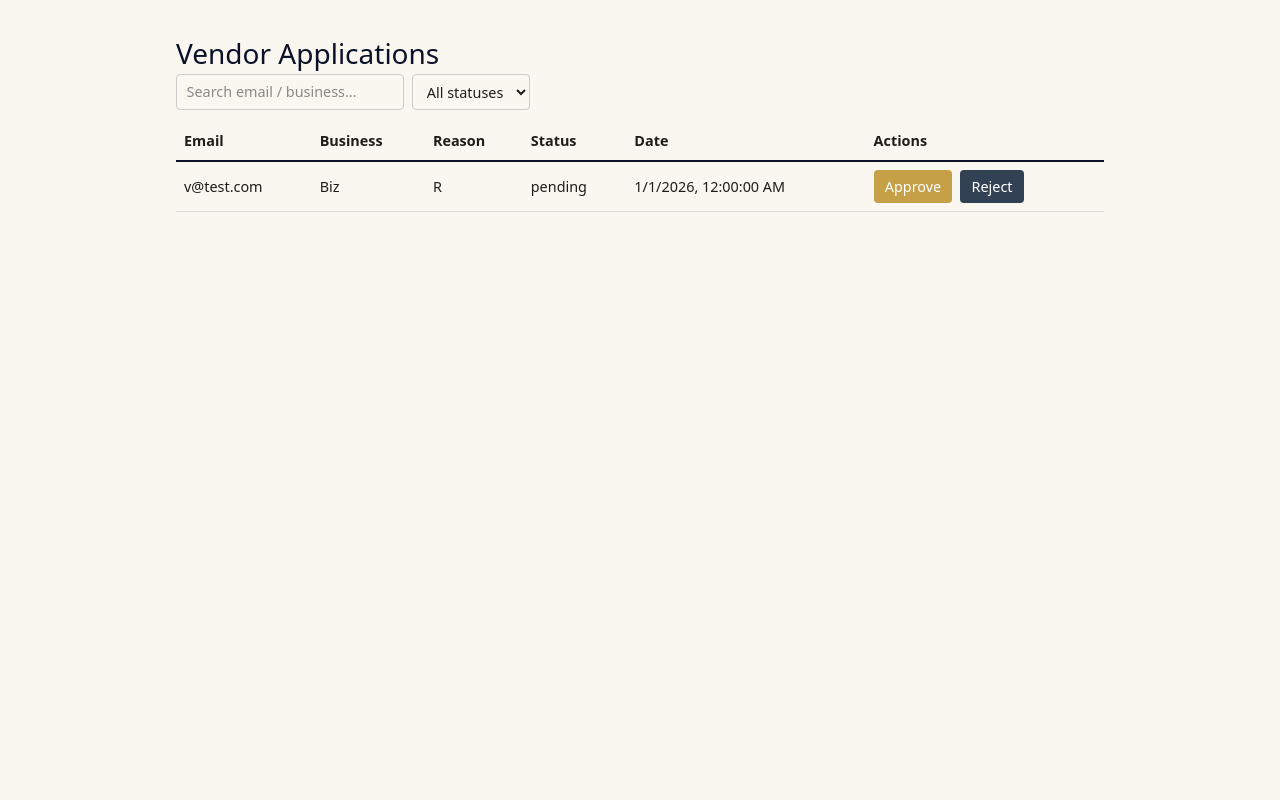
Test: Admin vendor-applications › shows separate approve/reject context in modal labels
The width and height of the screenshot is (1280, 800).
expect the text "v@test.com" is shown: met, box left=176, top=161, right=312, bottom=211
What coordinates should you click on to do the following:
click the button "Approve"
I would click on:
 (913, 186)
Its box is left=874, top=170, right=952, bottom=203.
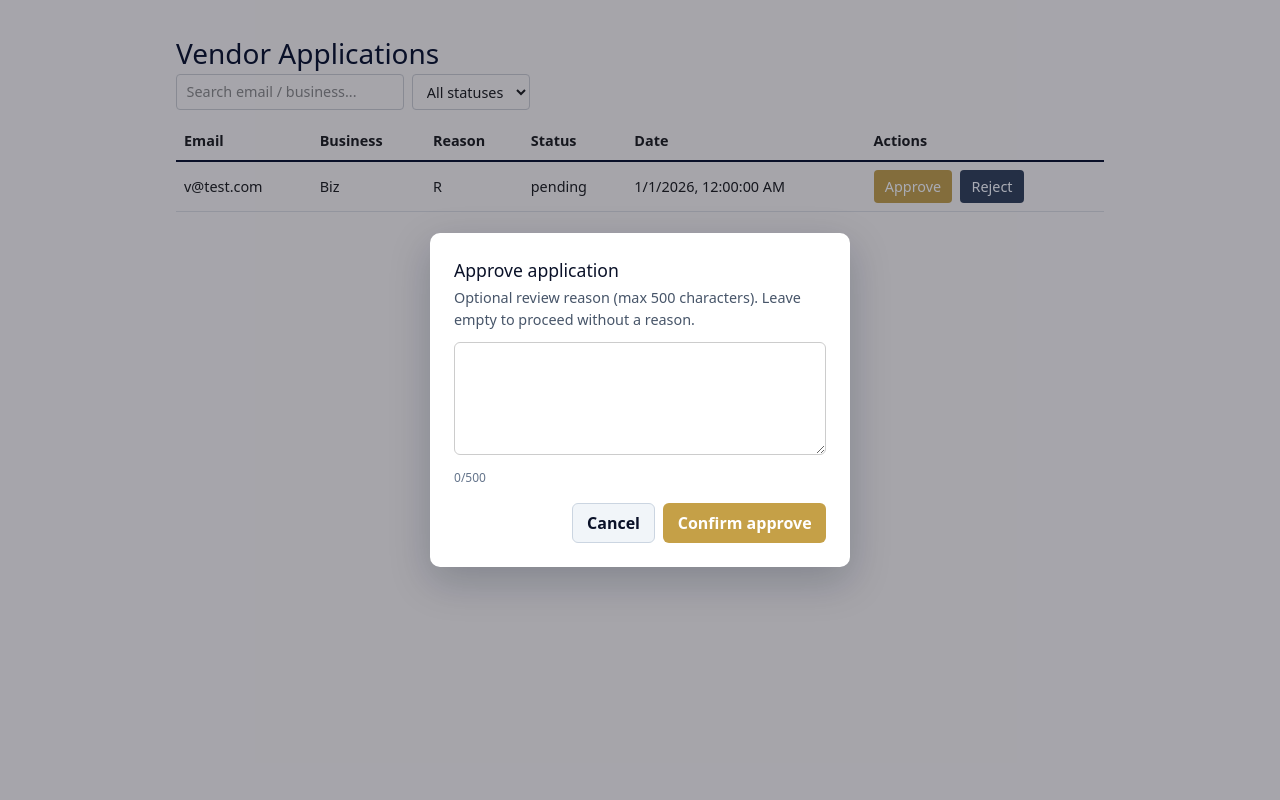
expect the dialog "Approve application" is shown: met
What coordinates should you click on to do the following:
click the button "Cancel"
I would click on:
 (614, 523)
Its box is left=572, top=503, right=655, bottom=543.
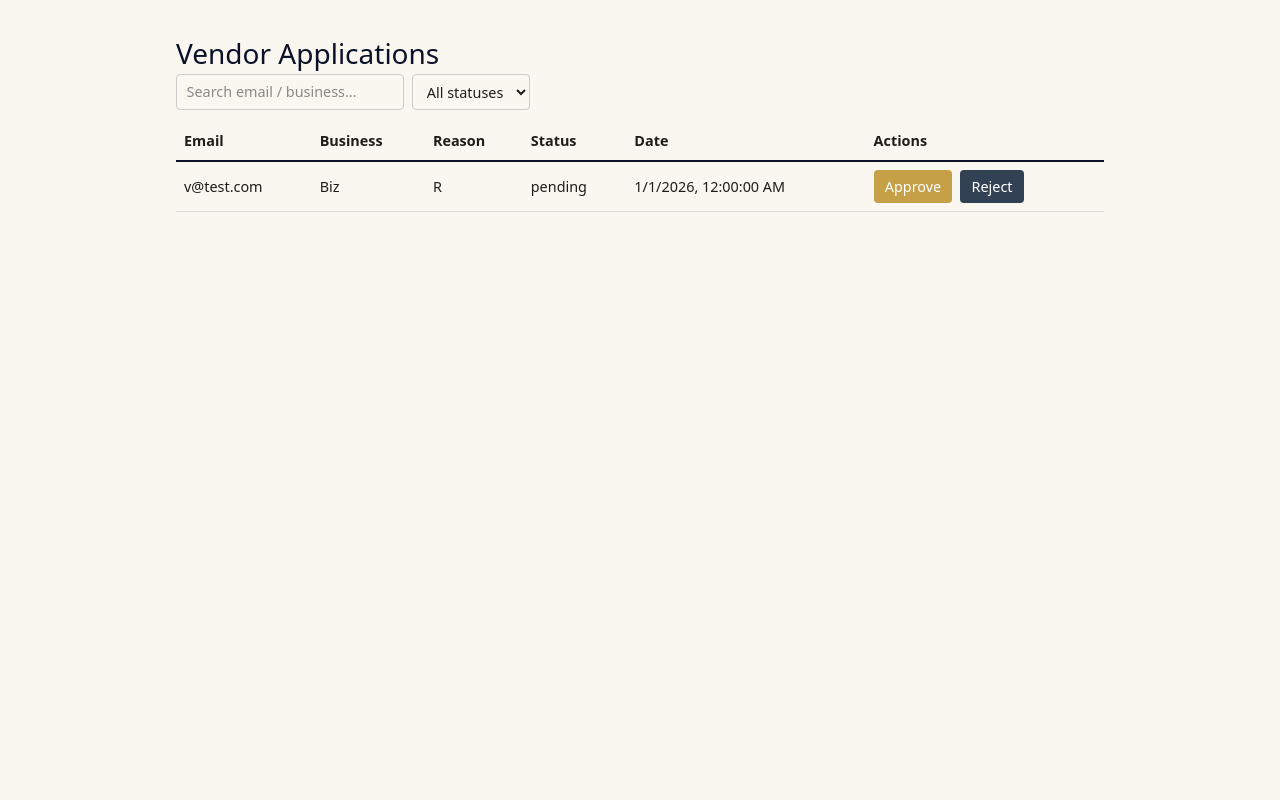
What coordinates should you click on to do the following:
click the button "Reject"
I would click on:
 (992, 186)
Its box is left=960, top=170, right=1024, bottom=203.
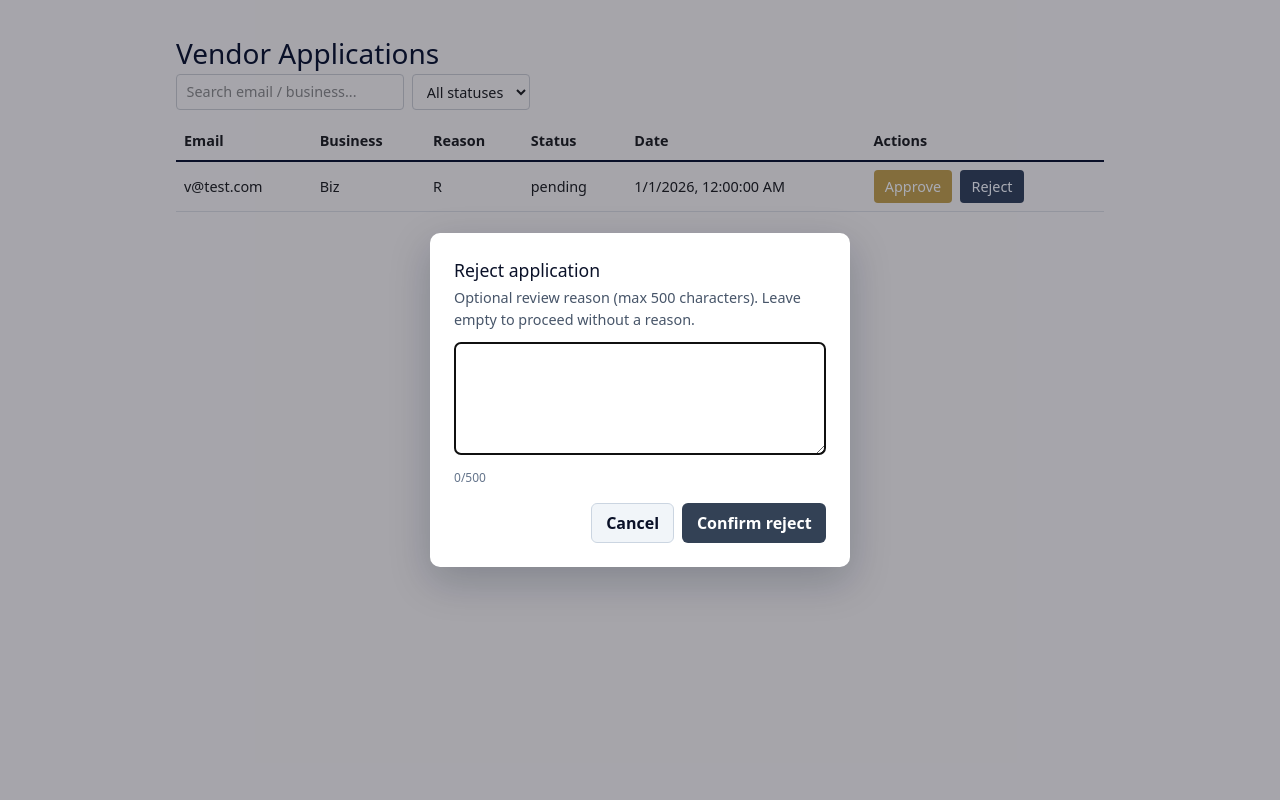
expect the dialog "Reject application" is shown: met
